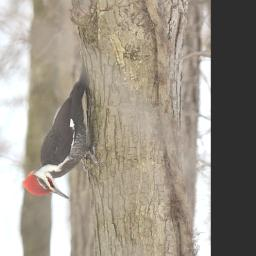Woodpecker: (21, 51, 105, 200)
